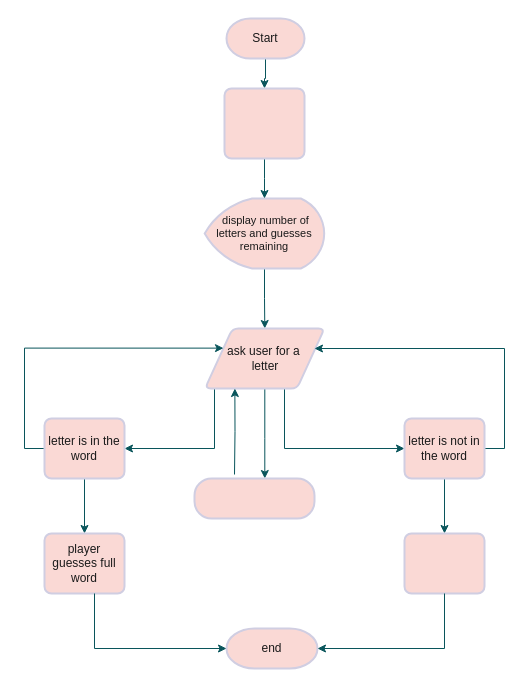
Image size: 530x686. Some labels were removed from this diagram. Each missing label, with the centre of its shape:
"choose a word" belongs at [264,123].
"letter has already been guessed" belongs at [254,498].
"player runs out of guesses" belongs at [444,563].
